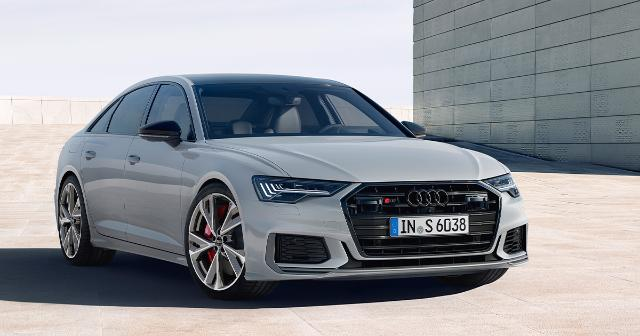audi: (54, 72, 530, 300)
